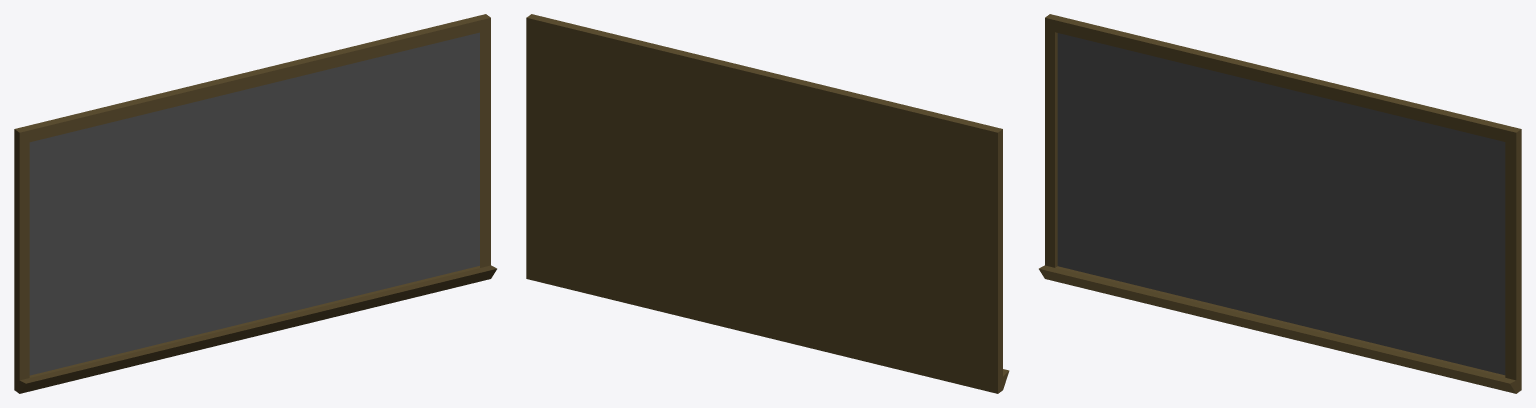
Rendered from Blackboard.fbx.
The picture shows the model from 3 angles, left to right: view 1: azimuth 30°, elevation 25°; view 2: azimuth 150°, elevation 25°; view 3: azimuth 330°, elevation 25°; orthographic projection.
Visible parts, largest first — view 1: Blackboard; view 2: Blackboard; view 3: Blackboard.
Boxes of the visible parts, <box> form: Blackboard: <box>14,14,496,393</box>; Blackboard: <box>526,14,1009,393</box>; Blackboard: <box>1039,14,1521,393</box>.
Size of the model in its own units: 17.12 by 9.06 by 0.7263.
